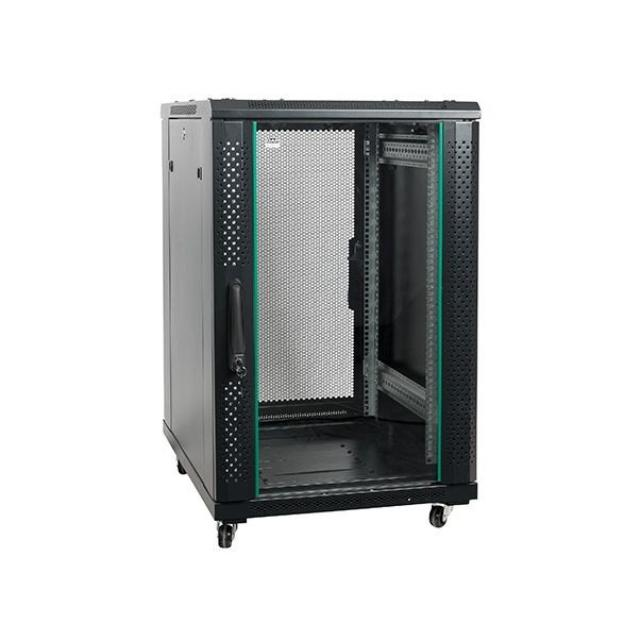Server: (172, 88, 488, 546)
